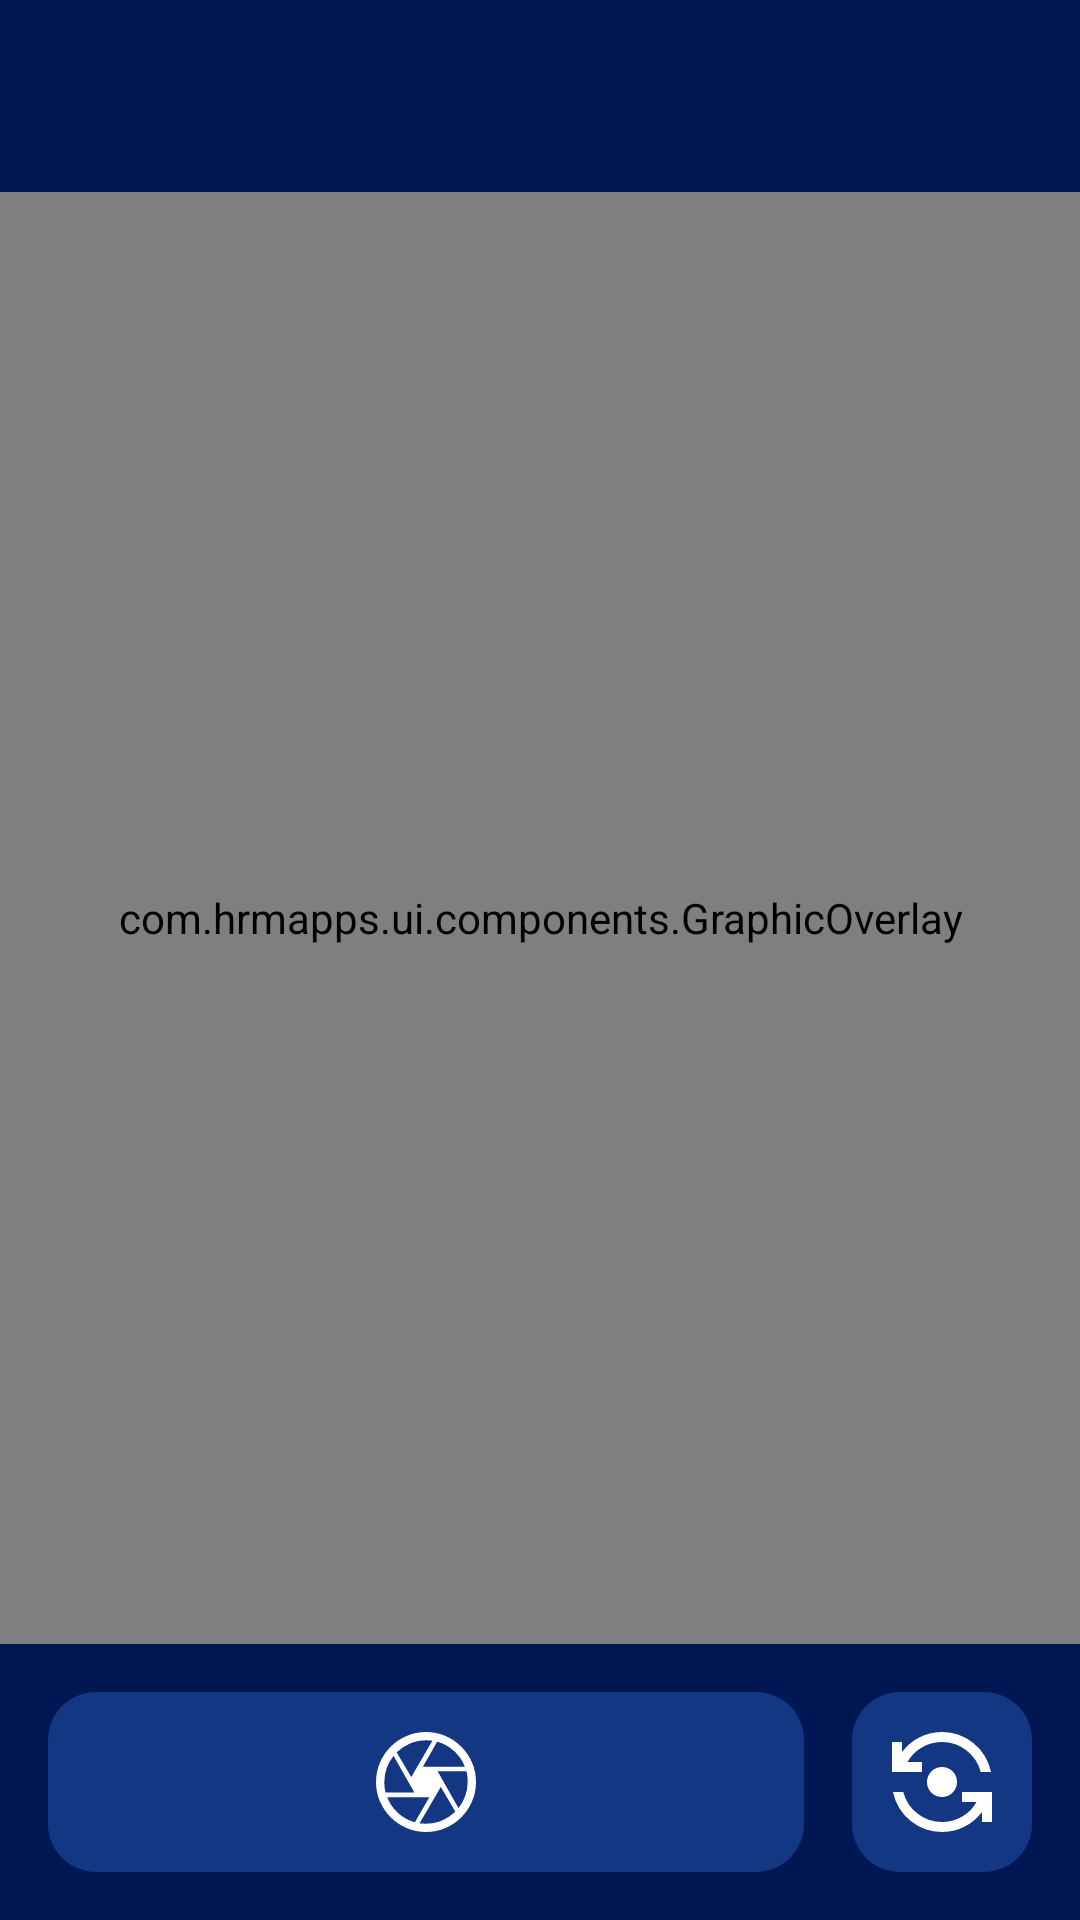

Icons on this 1080 × 1920 Android screen, each with the point to tap as point (x, y):
flip camera: point (942, 1782)
